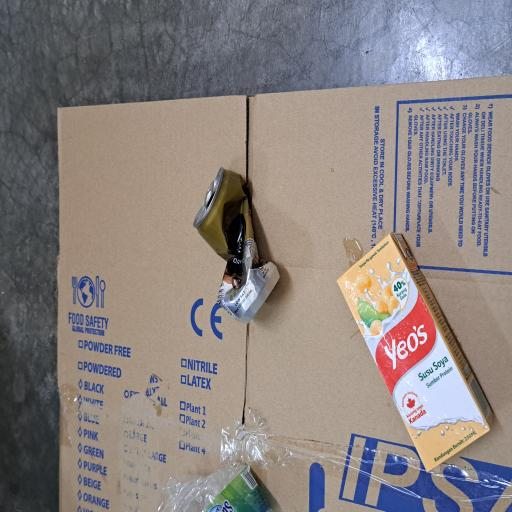can: (143, 253, 256, 375)
cardboard: (0, 64, 337, 512)
plastic bottle: (31, 443, 208, 512), (0, 204, 34, 362)
